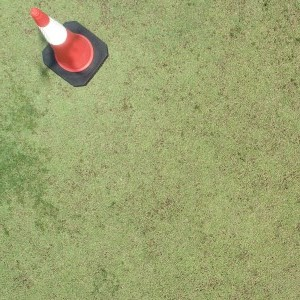traffic cone: (29, 6, 108, 87)
